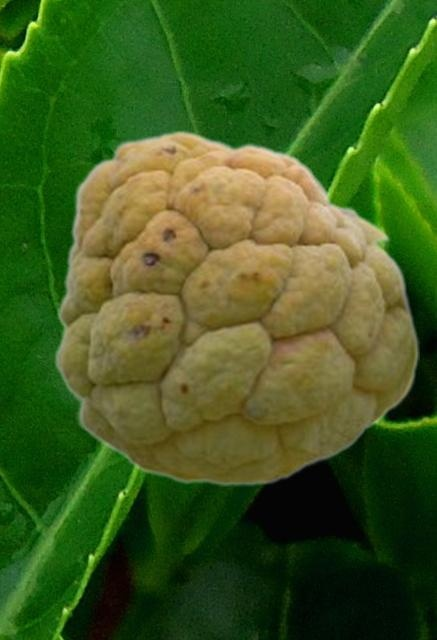atis: (53, 129, 418, 485)
